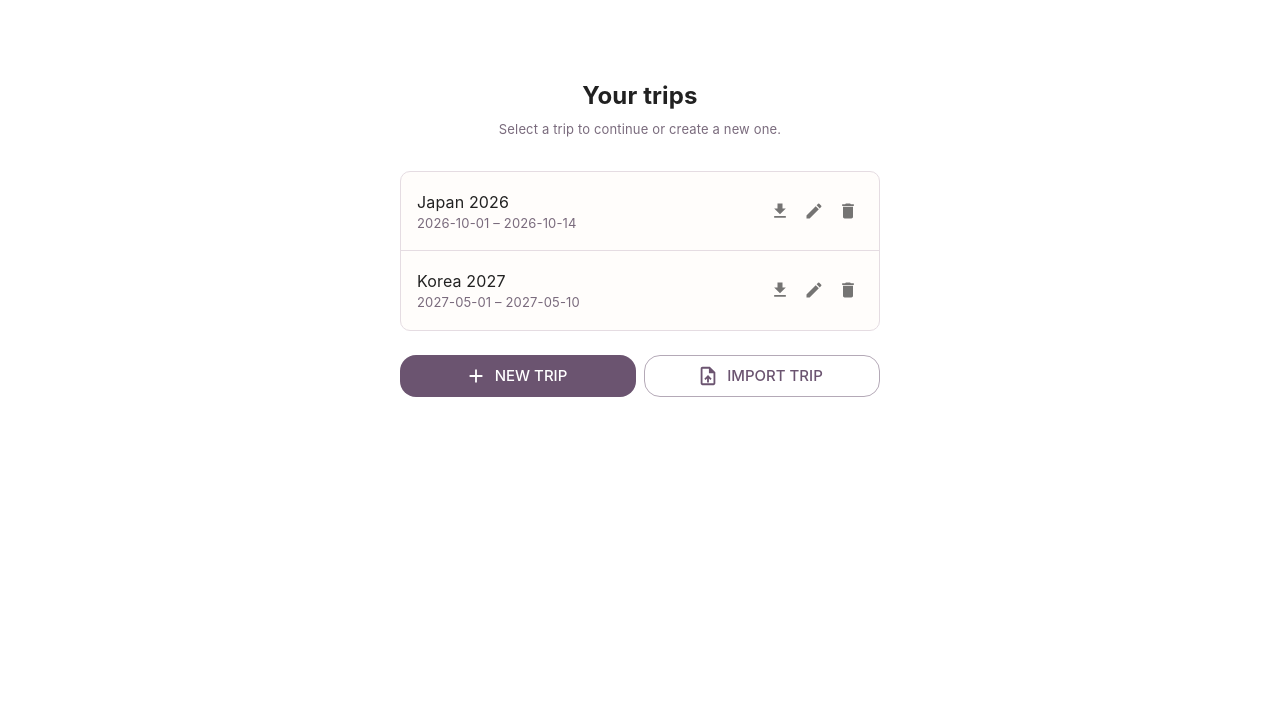
Test: TripSelectorScreen — new trip dialog › "New trip" button opens the form dialog
The image size is (1280, 720).
Step 1. Click the button "New trip" → coordinates (518, 376), box x1=400 y1=355 x2=636 y2=397
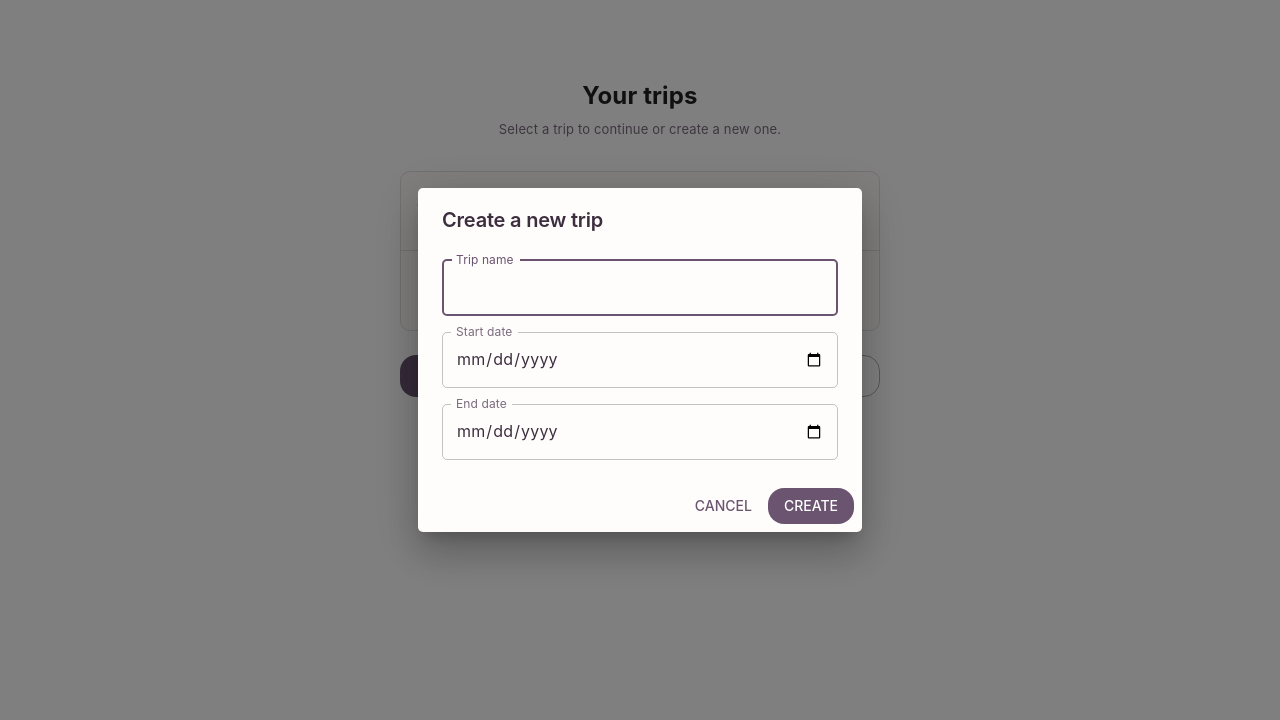
Expected: the heading "Create a new trip" is shown, x1=442 y1=208 x2=603 y2=232
Expected: the field labelled "Trip name" is shown, x1=442 y1=260 x2=838 y2=316
